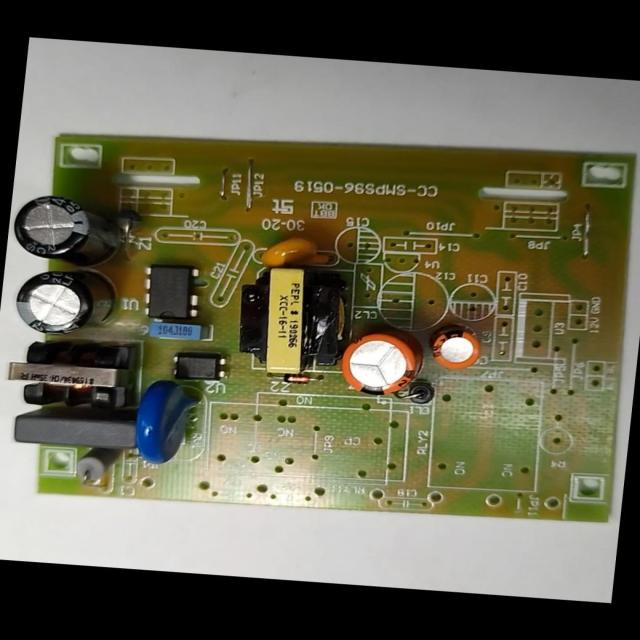Cap1: (336, 326, 424, 398)
Cap2: (427, 325, 482, 370)
Cap3: (10, 262, 121, 340)
Cap4: (8, 194, 122, 270)
MOSFET: (140, 262, 203, 322)
Mov: (130, 374, 205, 470)
Resistor: (71, 444, 121, 485)
Transformer: (230, 262, 350, 374), (1, 336, 140, 414)
